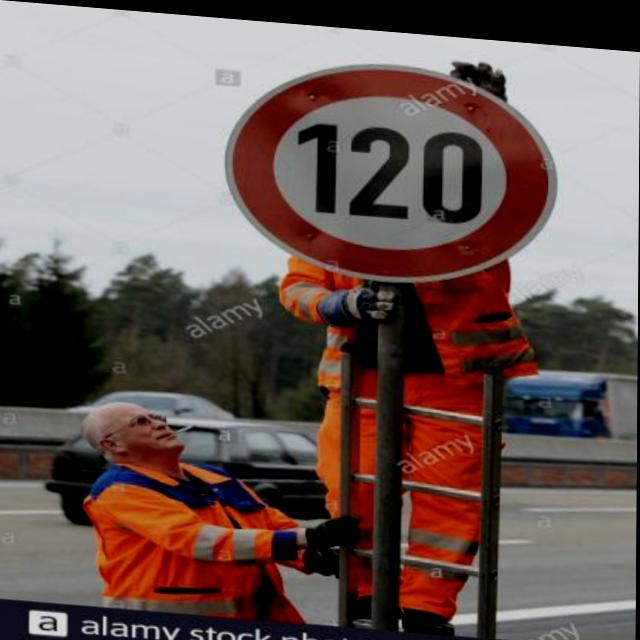limit120: (217, 39, 565, 298)
